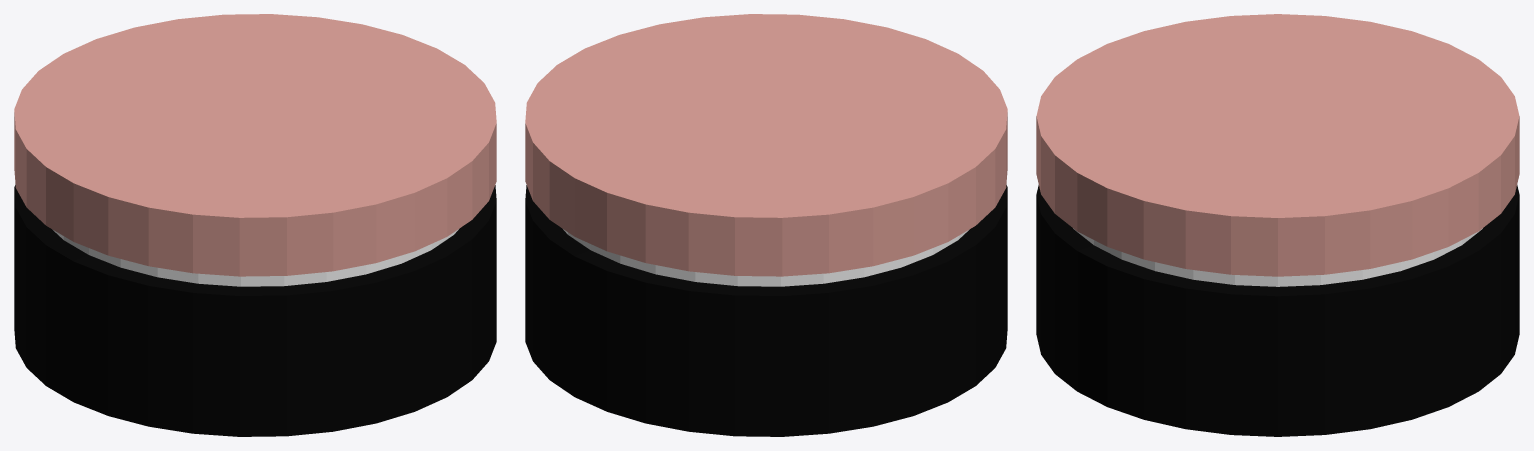
The model's file is candela1_mensola.fbx.
3 renders of one model, left to right at view 1: azimuth 30°, elevation 25°; view 2: azimuth 150°, elevation 25°; view 3: azimuth 270°, elevation 25°, orthographic.
Parts seen in each view (by area): view 1: candela1.001; view 2: candela1.001; view 3: candela1.001.
Part boxes in pixels (x1,y1,x2,y2): candela1.001: (14,14,496,436); candela1.001: (525,14,1007,436); candela1.001: (1036,14,1519,436).
Size of the model in its own units: 10 by 5 by 10.
Materials: 1 (1 with a texture image).
